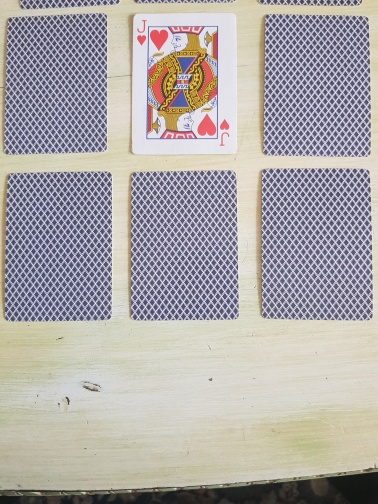jack: (130, 12, 238, 155)
